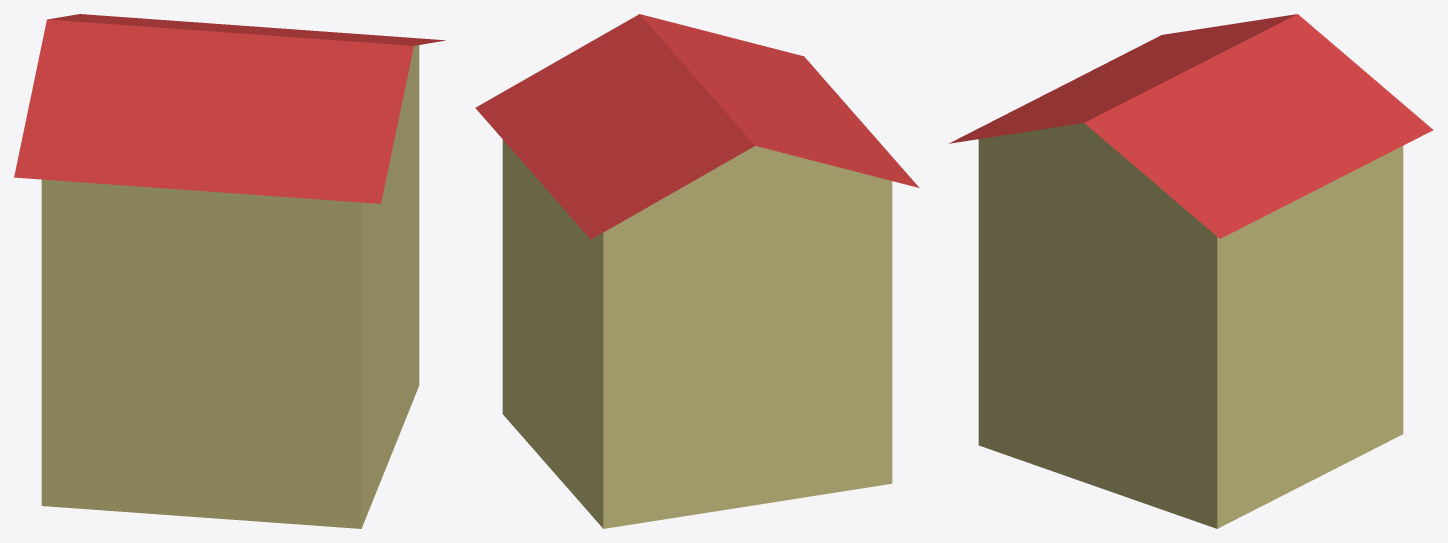
3 views of the same model, side by side, from view 1: azimuth 30°, elevation 25°; view 2: azimuth 150°, elevation 25°; view 3: azimuth 270°, elevation 25° (orthographic). The views are drawn at different scales.
Visible parts, largest first — view 1: group_5, group_3, group_4; view 2: group_5, group_3, group_4; view 3: group_5, group_3, group_4.
Part boxes in pixels (x1,y1,x2,y2): group_5: (41,45,419,528); group_3: (41,14,445,203); group_4: (14,19,413,203); group_5: (502,139,892,528); group_3: (475,14,891,239); group_4: (640,14,919,187); group_5: (978,56,1403,528); group_3: (980,14,1433,238); group_4: (949,14,1296,143).
Bounding box in the file's own units: 16.84 × 16.93 × 14.29.
